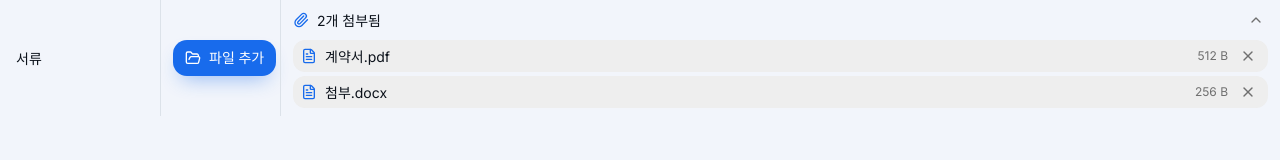
Scenario: AttachmentRow › 수정 시나리오 — 멀티 파일 (initialFiles) › 기존 파일 삭제 시 UI에서 사라집니다
Click the button named "계약서.pdf 삭제": {"x": 1248, "y": 56} [1236,44,1260,68]
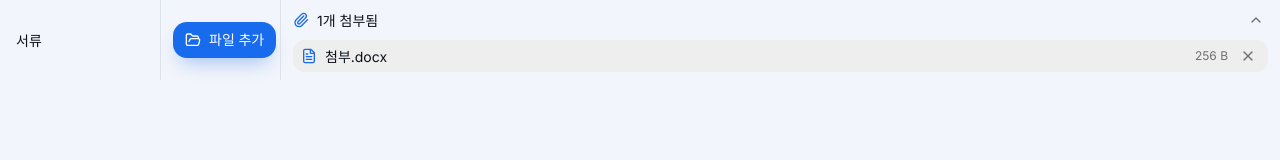
expect the text "계약서.pdf" is gone: met
expect the text "1개 첨부됨" is shown: met, box [317,12,378,28]
